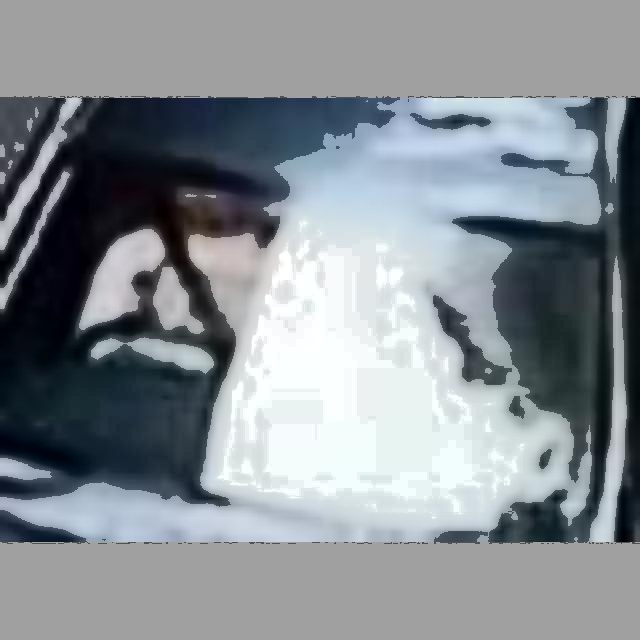pakai: (74, 199, 263, 408)
